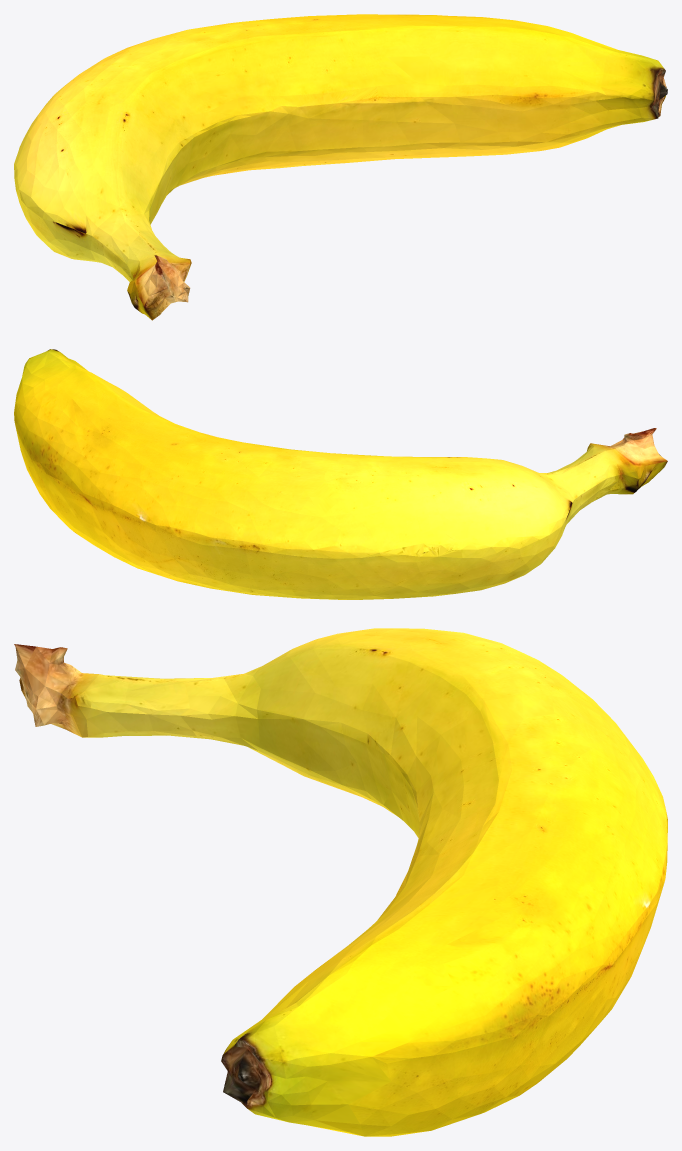
Rendered from bananaFinal-v1.glb.
3 renders of one model, top to bottom at view 1: azimuth 30°, elevation 25°; view 2: azimuth 150°, elevation 25°; view 3: azimuth 270°, elevation 25°, orthographic. The views are drawn at different scales.
Visible parts, largest first — view 1: banana; view 2: banana; view 3: banana.
Boxes of the visible parts, x1,y1,x2,y2 form: banana: [14, 14, 667, 320]; banana: [14, 349, 667, 599]; banana: [14, 628, 667, 1136].
Bounding box in the file's own units: 6.79 × 1.62 × 4.44.
1 material, 1 textured.
